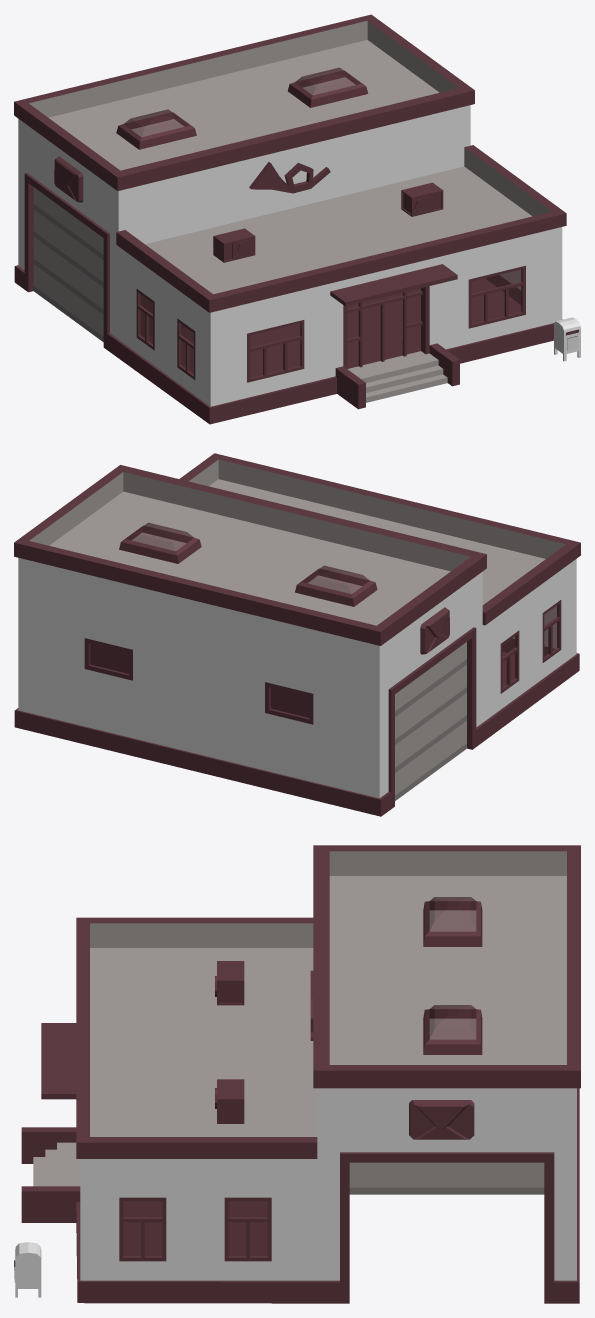
File: building-post.fbx
3 views of the same model, one above another, from view 1: azimuth 30°, elevation 25°; view 2: azimuth 150°, elevation 25°; view 3: azimuth 270°, elevation 25° (orthographic). The views are drawn at different scales.
Parts seen in each view (by area): view 1: building-post; view 2: building-post; view 3: building-post.
Part boxes in pixels (left/top/right/bottom): building-post: left=14, top=14, right=580, bottom=424; building-post: left=14, top=453, right=580, bottom=816; building-post: left=14, top=845, right=580, bottom=1303.
Bounding box in the file's own units: 13.92 × 6.6 × 14.55.
